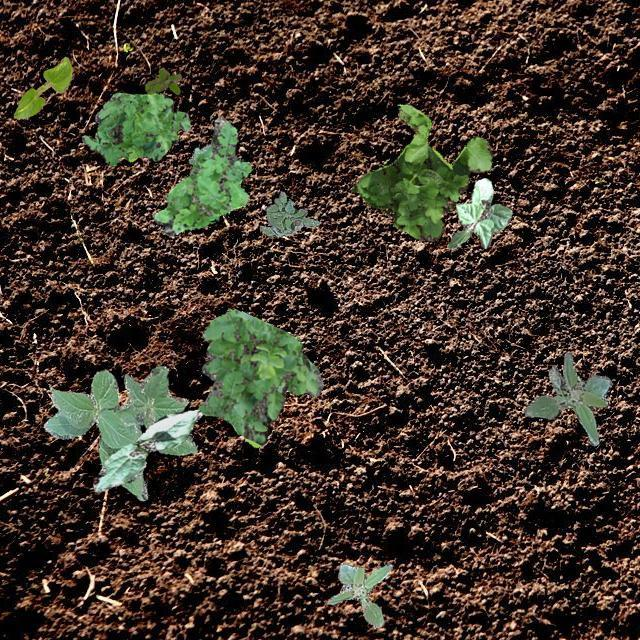crop: (44, 366, 195, 500), (92, 408, 200, 492), (448, 178, 510, 248), (12, 55, 72, 118), (188, 142, 210, 164)
weed: (351, 104, 492, 240), (196, 308, 322, 447), (152, 116, 250, 234), (80, 91, 190, 166), (522, 352, 610, 444), (328, 562, 390, 626), (258, 190, 318, 237), (144, 66, 180, 94)
